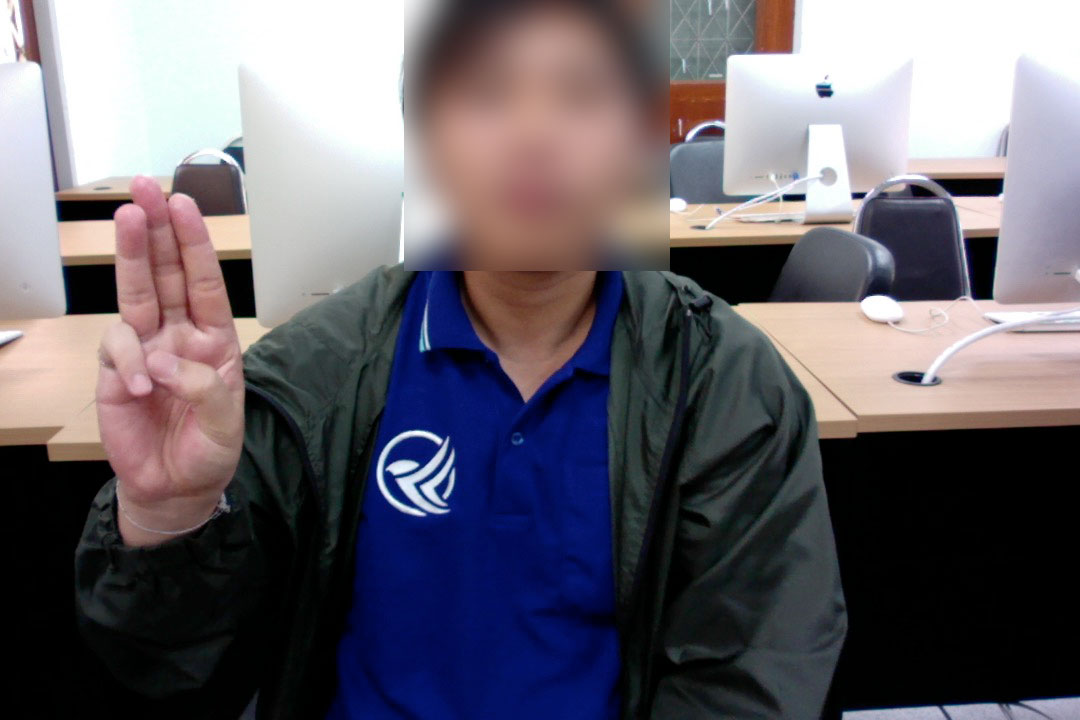wor: (64, 162, 285, 553)
